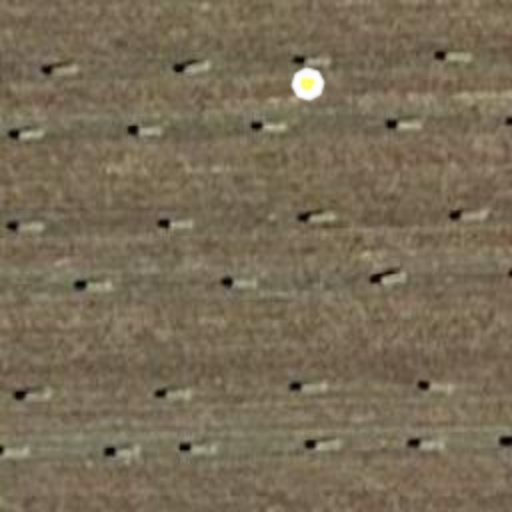octagon: (288, 64, 328, 104)
